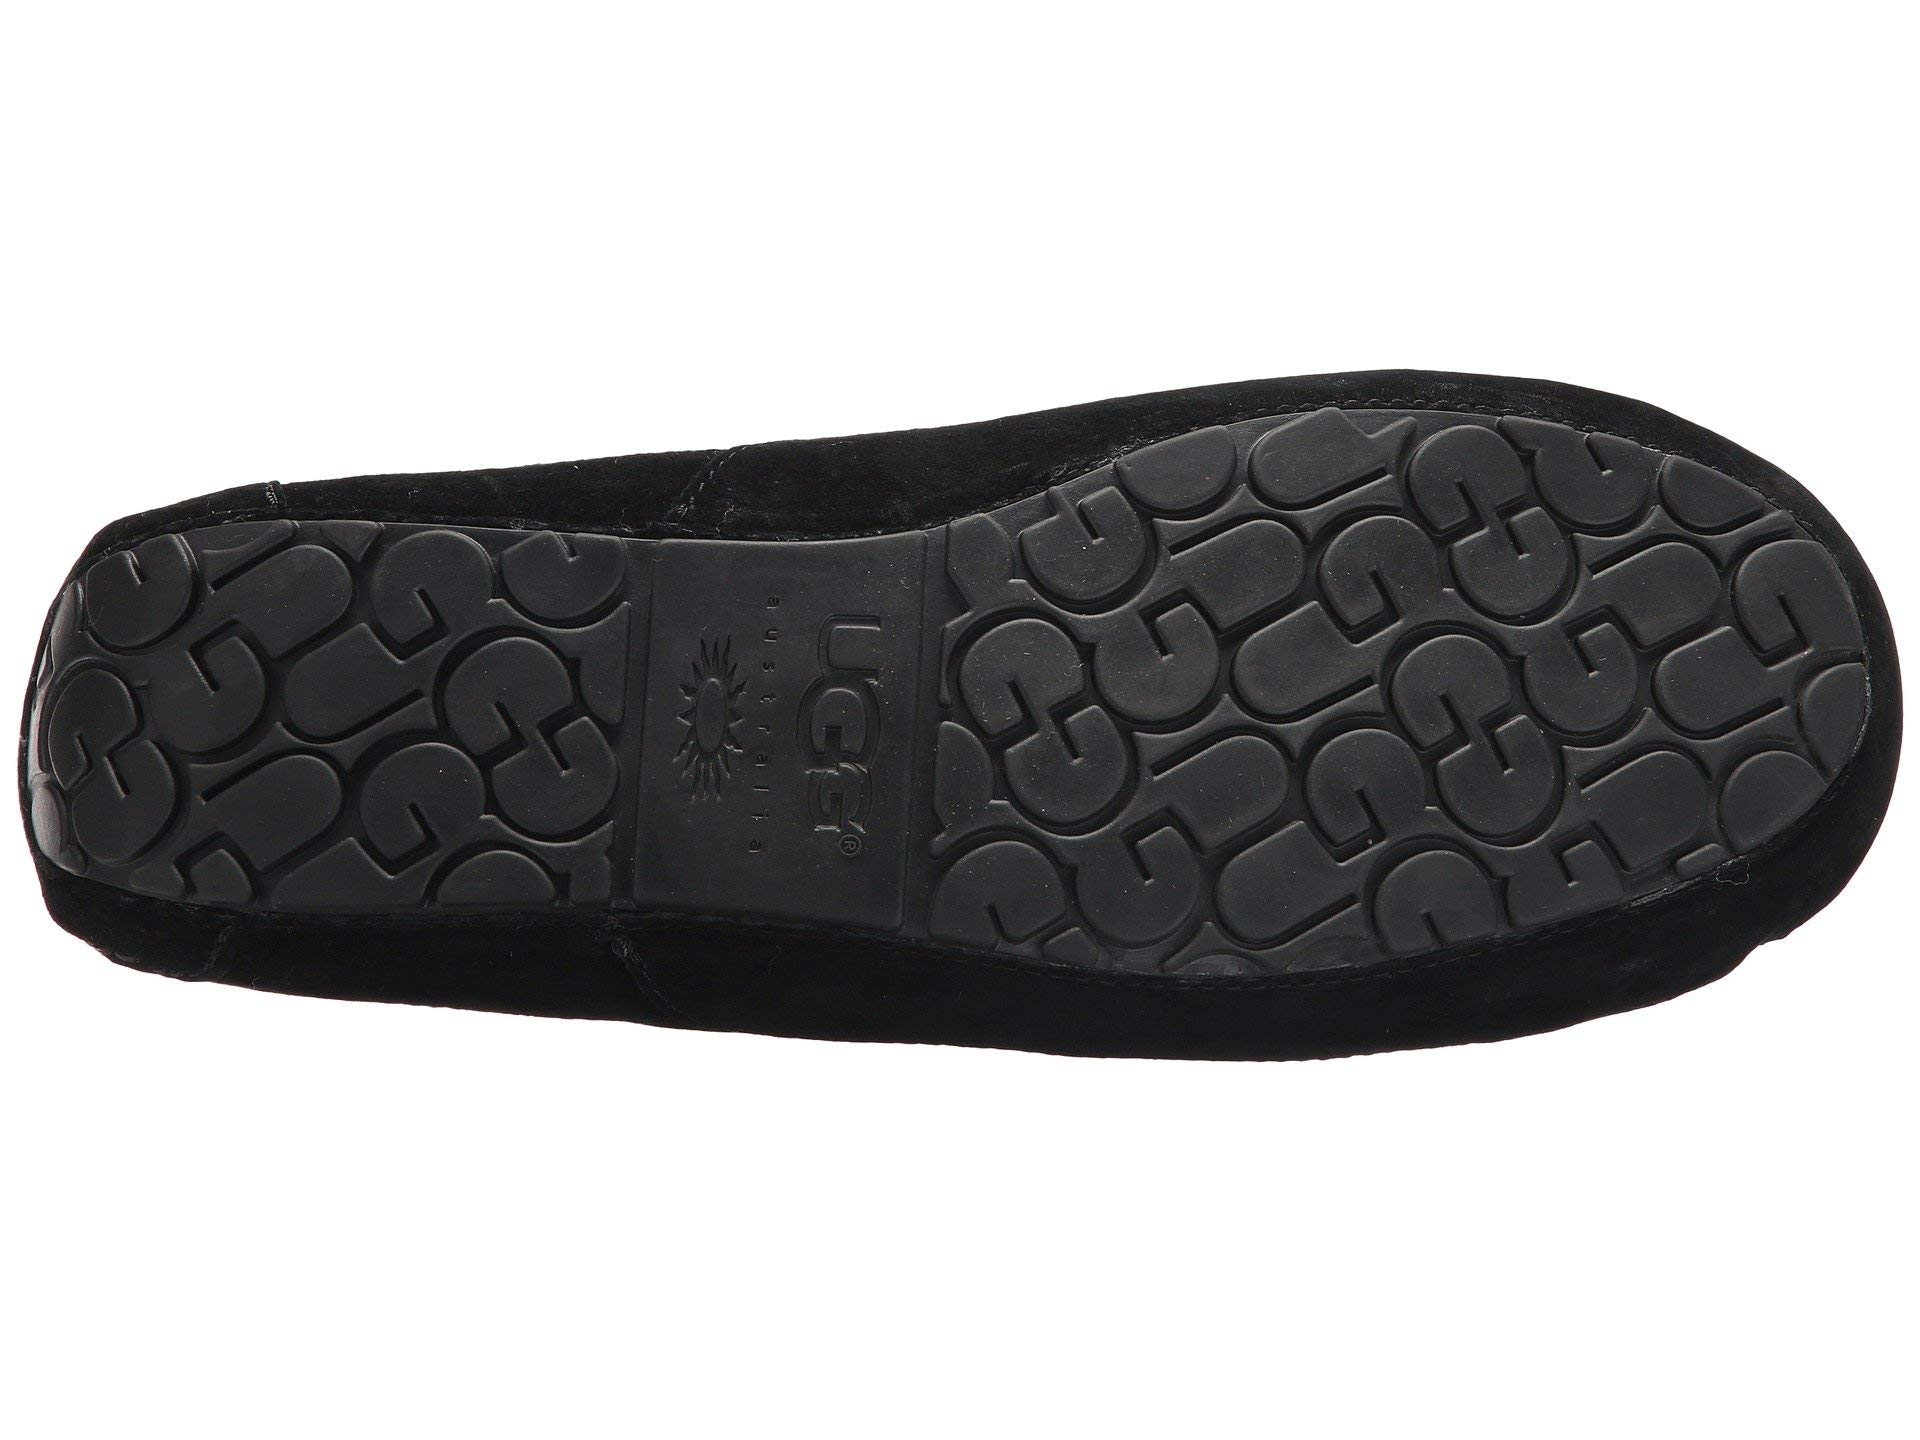text: (1104, 492, 1491, 948)
